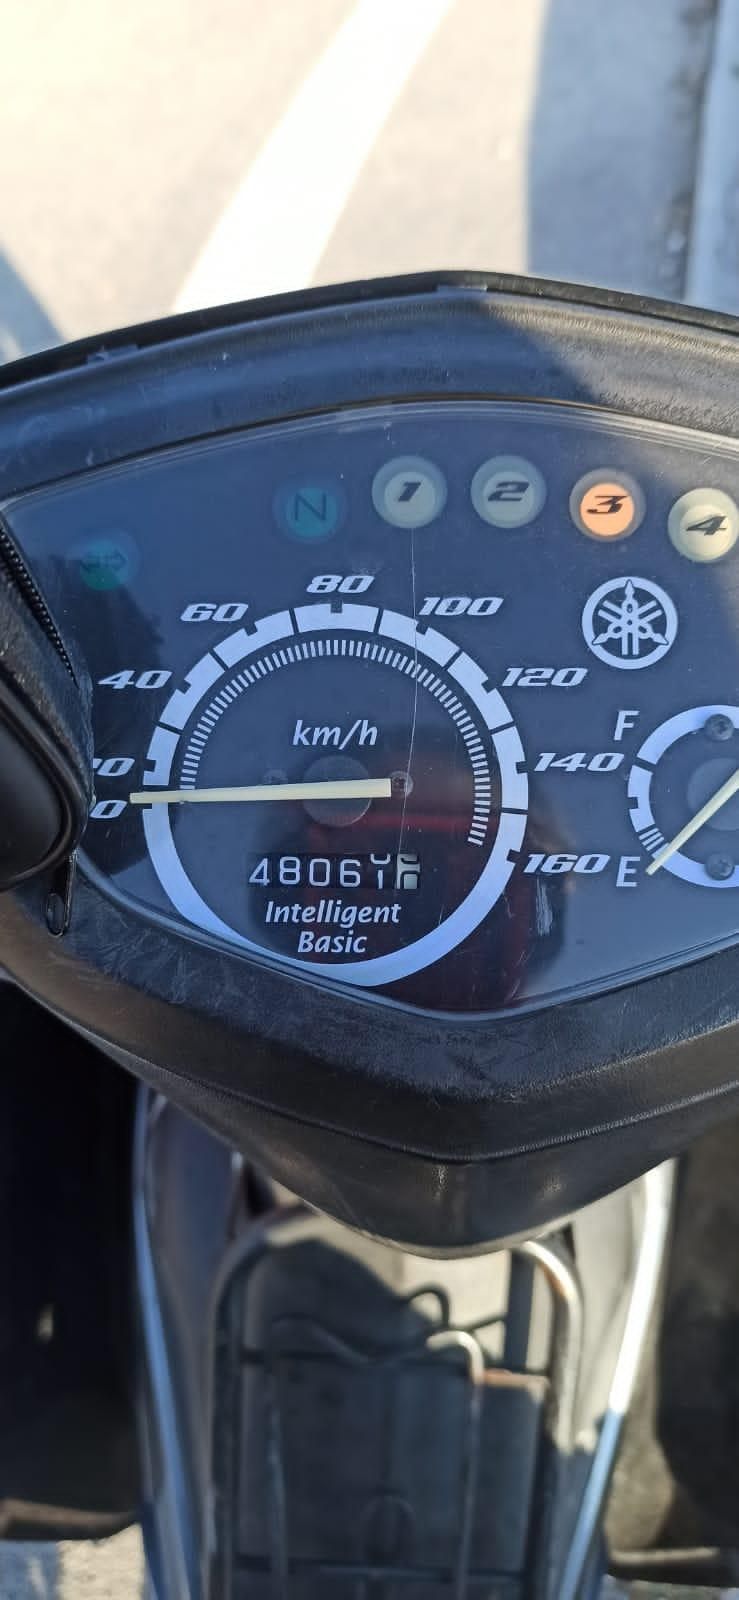0: (308, 858, 330, 886), (399, 870, 420, 890)
1: (375, 868, 384, 889)
4: (247, 856, 270, 886)
6: (338, 858, 361, 888)
8: (279, 855, 300, 884)
odometer: (242, 849, 423, 891)
